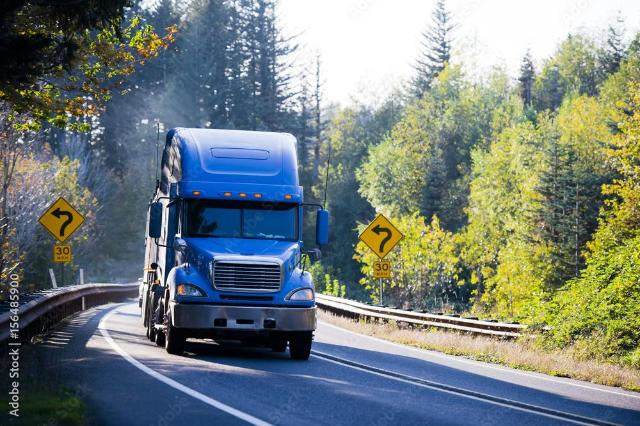truck: (141, 118, 334, 368)
